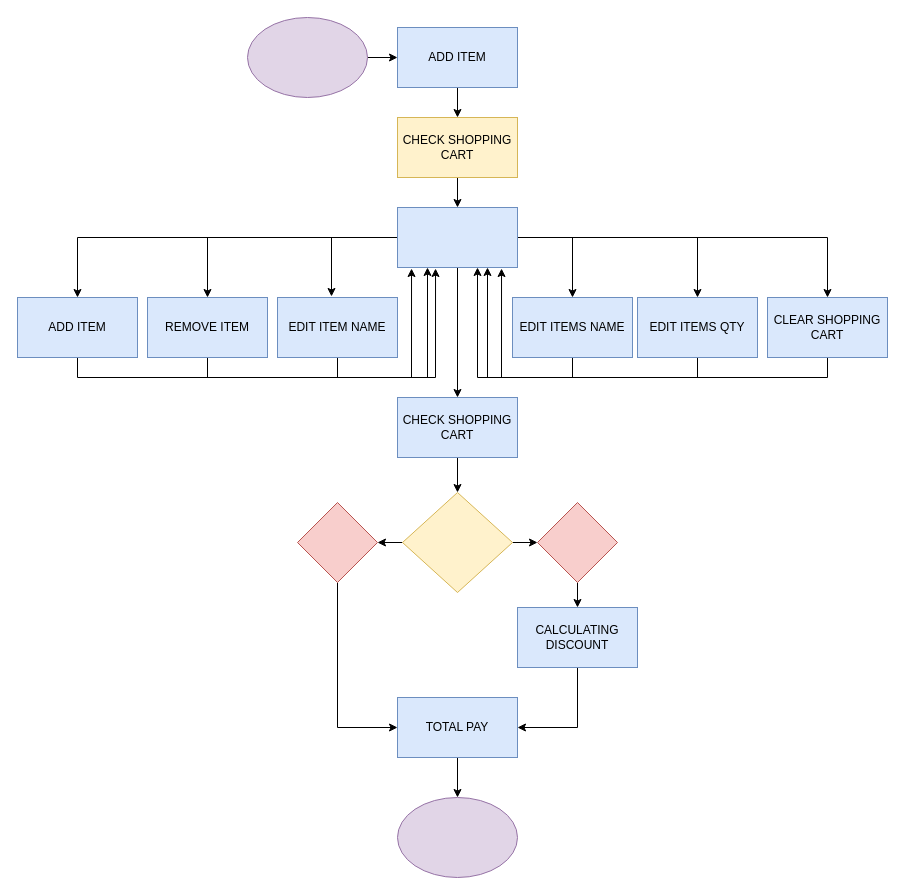
Image size: 905x895. Some labels were removed from this diagram. The shapes that lost their labels are listed below. From the top down, each one's centre as x and y in pixels, then its label:
the point at 307,57: START
the point at 457,237: PRINT SHOPPING CART
the point at 337,542: NO
the point at 457,542: GET DISCOUNT?
the point at 577,542: YES
the point at 457,837: END
